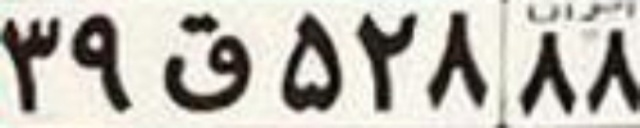2: (353, 11, 416, 112)
3: (0, 14, 60, 114)
5: (279, 12, 344, 112)
8: (423, 11, 487, 110), (516, 33, 574, 113), (585, 28, 639, 111)
9: (70, 14, 128, 112)
ghaf: (162, 11, 253, 112)
